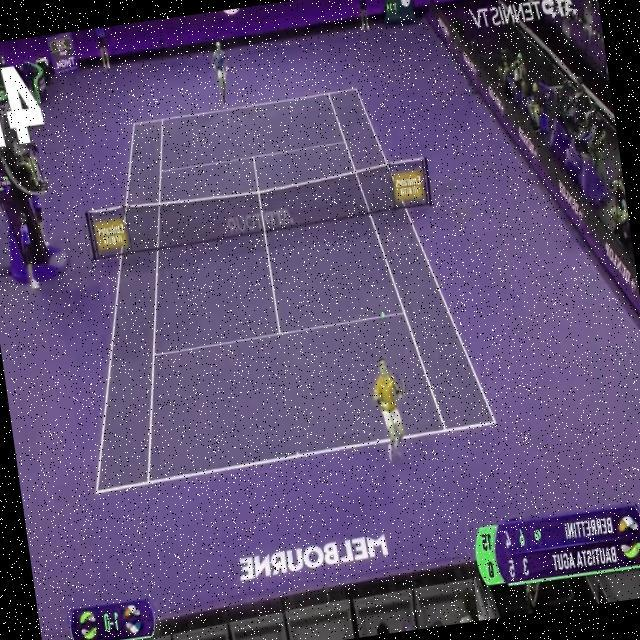court: (44, 76, 499, 495)
net: (83, 154, 435, 260)
player: (368, 354, 418, 466)
